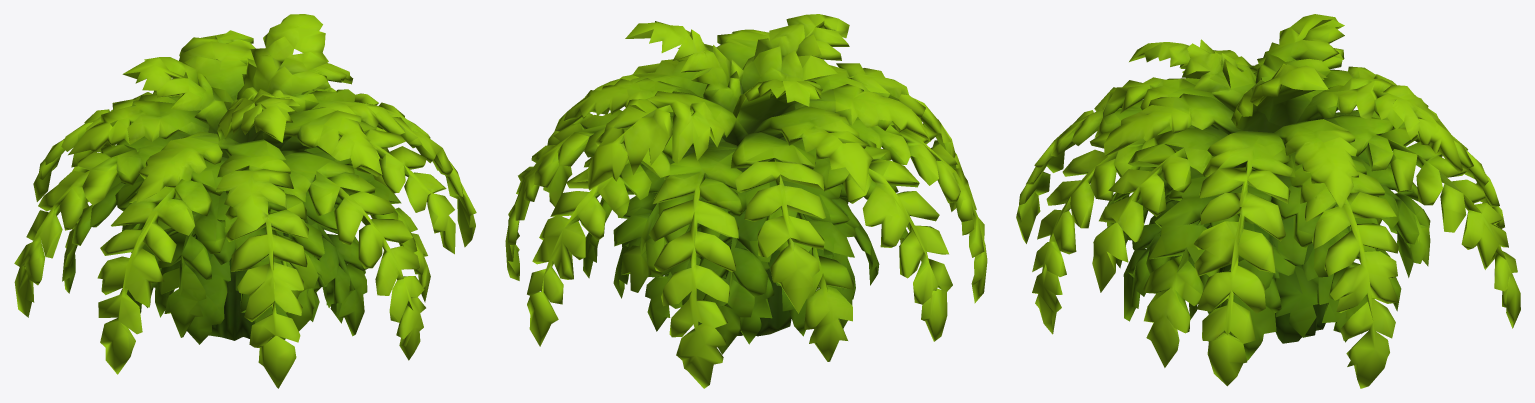
Rendered from fern.glb.
3 renders of one model, left to right at view 1: azimuth 30°, elevation 25°; view 2: azimuth 150°, elevation 25°; view 3: azimuth 270°, elevation 25°, orthographic. The views are drawn at different scales.
Visible parts, largest first — view 1: tripo_node_2f6522b3-f51e-4e28-874d-a16625cadc50; view 2: tripo_node_2f6522b3-f51e-4e28-874d-a16625cadc50; view 3: tripo_node_2f6522b3-f51e-4e28-874d-a16625cadc50.
Boxes of the visible parts, <box> form: tripo_node_2f6522b3-f51e-4e28-874d-a16625cadc50: <box>14,14,476,388</box>; tripo_node_2f6522b3-f51e-4e28-874d-a16625cadc50: <box>505,14,987,388</box>; tripo_node_2f6522b3-f51e-4e28-874d-a16625cadc50: <box>1016,14,1520,388</box>.
Size of the model in its own units: 1.42 by 0.9021 by 1.42.
Materials: 1 (1 with a texture image).
